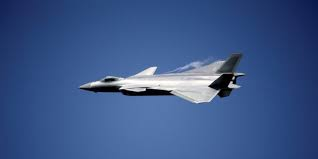fighter: (76, 51, 245, 105)
